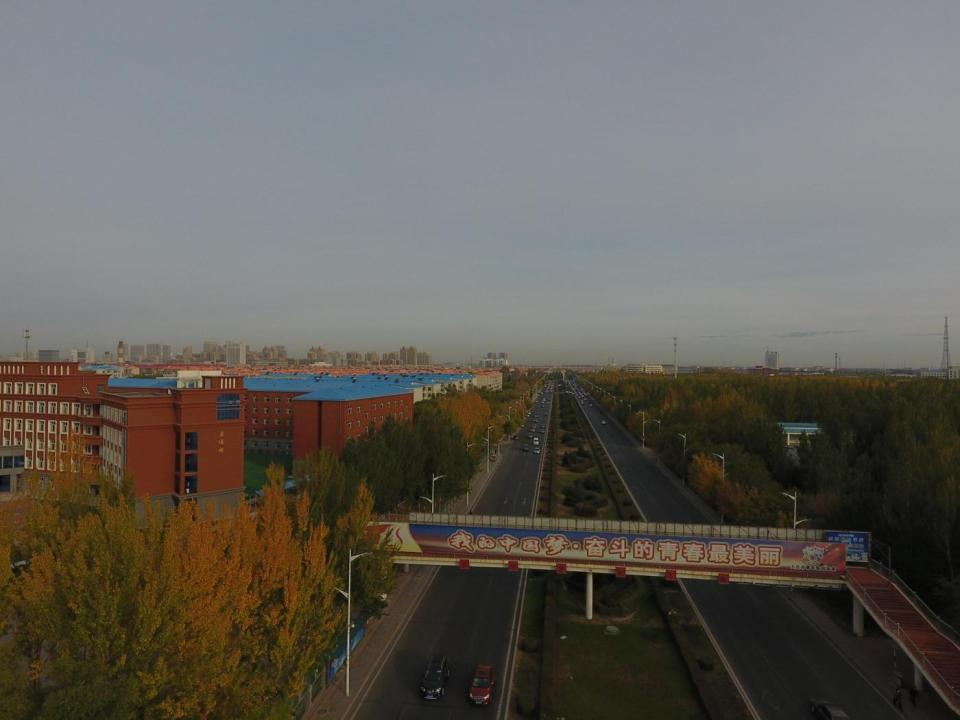car: (419, 653, 450, 700), (469, 663, 496, 707), (809, 696, 851, 720), (533, 447, 541, 455), (532, 438, 540, 445), (539, 423, 546, 430), (522, 444, 528, 452), (530, 426, 536, 434), (527, 433, 533, 439), (513, 435, 519, 440), (539, 428, 544, 434), (532, 424, 538, 429), (519, 422, 525, 427), (601, 420, 607, 424), (534, 413, 540, 417), (533, 418, 538, 422), (526, 412, 530, 417), (526, 410, 530, 415), (544, 412, 548, 416), (589, 403, 593, 407), (546, 401, 550, 405), (541, 400, 545, 404), (534, 400, 538, 403), (542, 398, 546, 401), (542, 397, 546, 400), (547, 397, 551, 400), (581, 402, 584, 404), (541, 405, 544, 407)
van: (580, 399, 584, 403)
